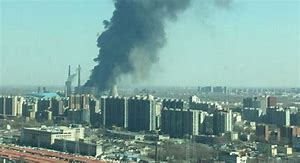smoke: (86, 1, 187, 83)
